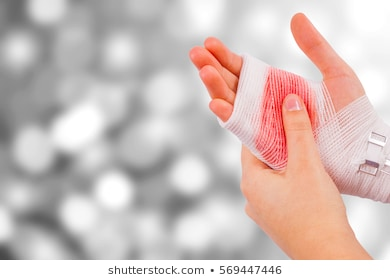injured: (193, 3, 366, 168)
